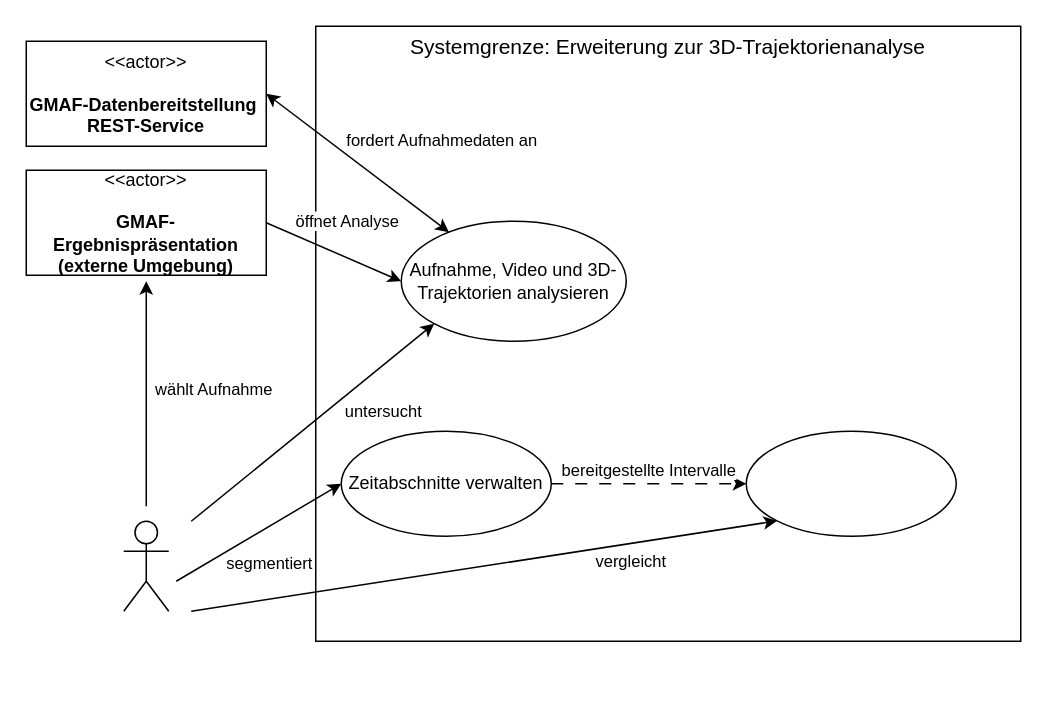
Image size: 1047x726. Some labels were removed from this diagram. Here are the shapes that lost their labels. From the top down, the box of each, then its label:
(745, 430, 956, 536): Bewegungsmuster vergleichen
(122, 520, 169, 611): Analysierende Person
